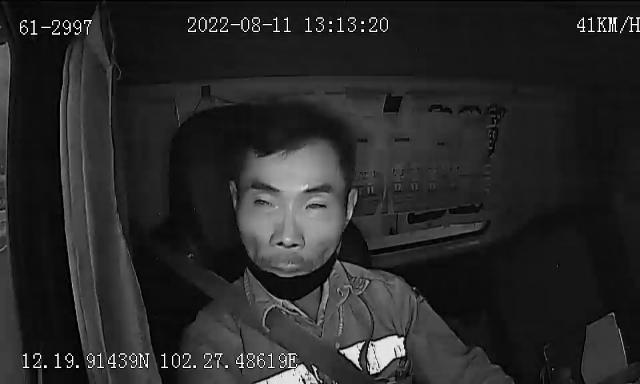SafeDriving: (418, 95, 460, 122), (298, 192, 336, 216), (247, 188, 283, 213)
Seatbelt: (178, 254, 380, 384)
